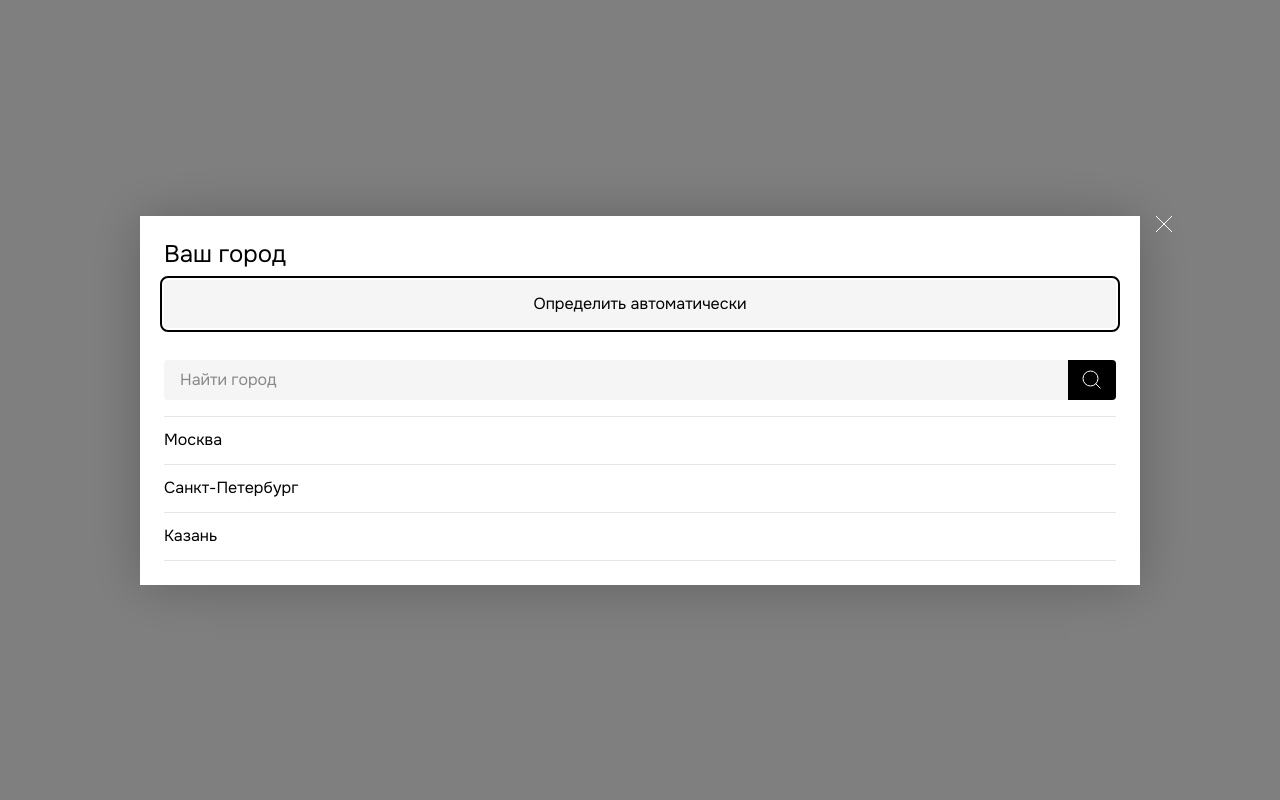
Test: CityModal › filters the list by the search and tells when nothing matches
Type "каз" into the search field labelled "Найти город" at (616, 380), box [164,360,1068,400]
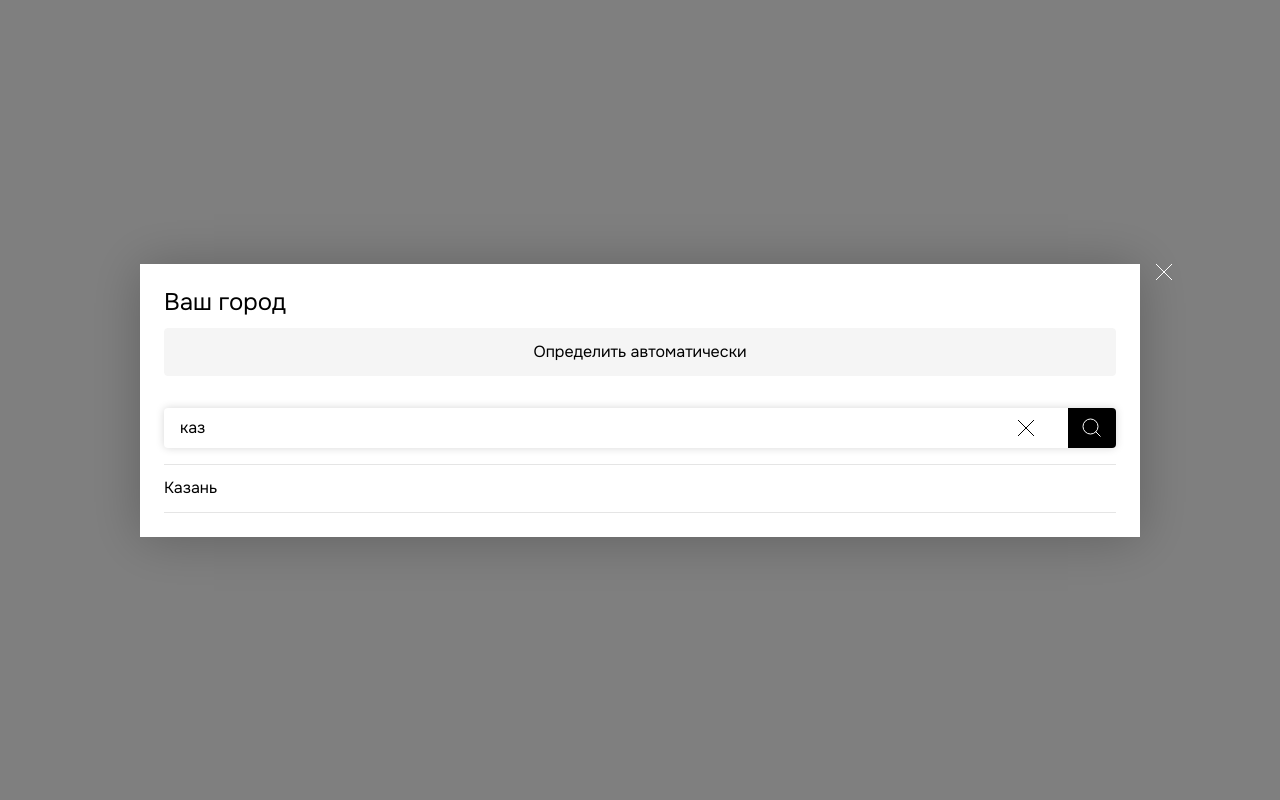
Expected: the list items read "Казань", in this order, [164,464,1116,512]
Clear the search field named "Найти город" at (616, 428), box [164,408,1068,448]
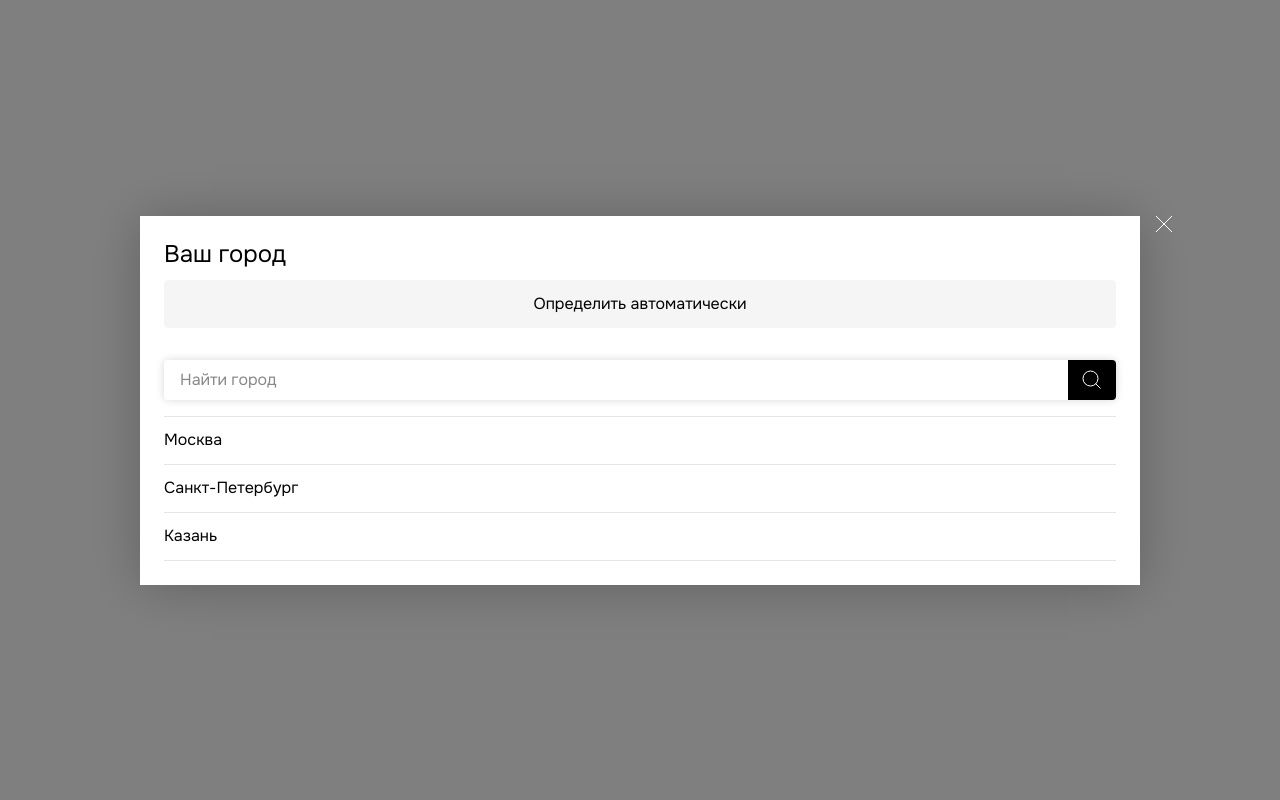
Type "ъъъ" into the search field labelled "Найти город" at (616, 380), box [164,360,1068,400]
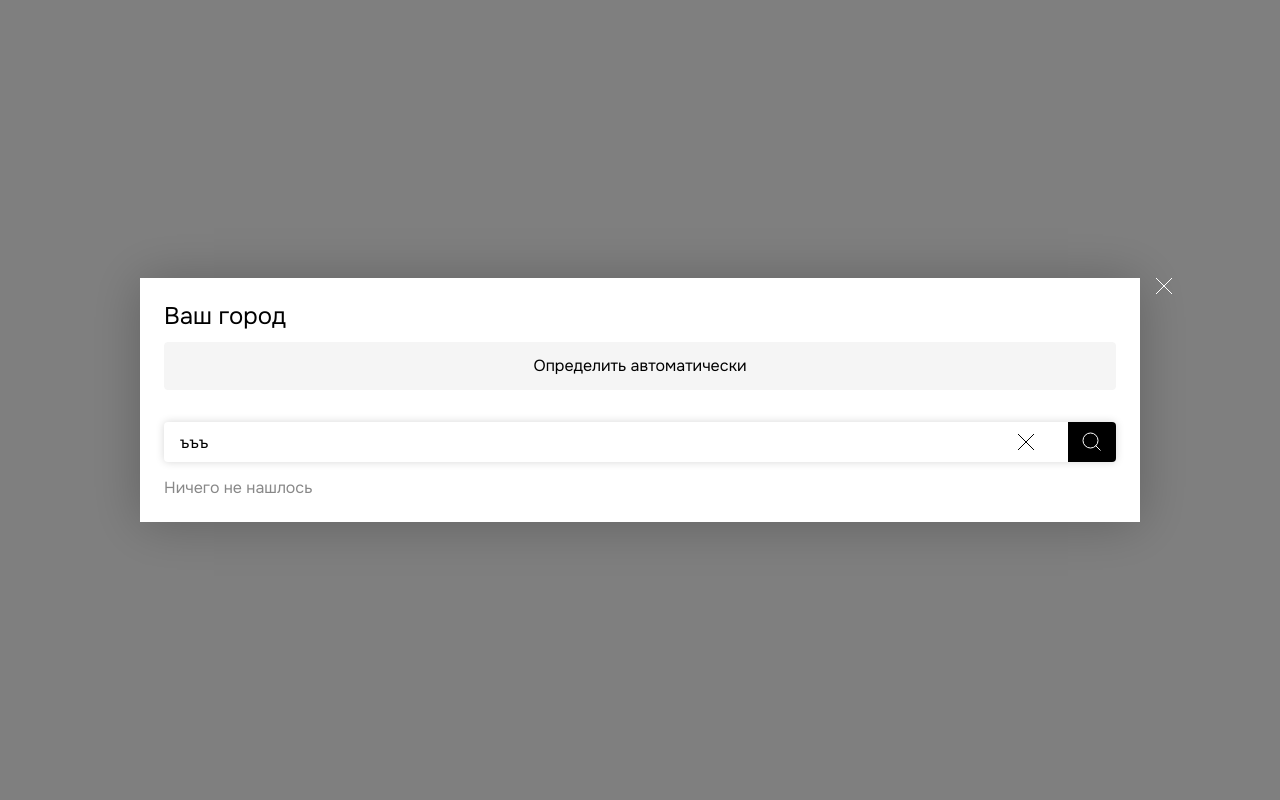
Expected: the text "Ничего не нашлось" is shown, [164,477,312,498]
Expected: the list is gone
